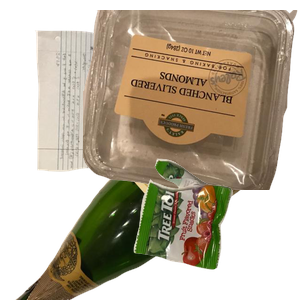glass: (13, 120, 253, 300)
paper: (32, 28, 249, 196)
plastic: (83, 10, 300, 190)
trash: (131, 156, 300, 300)
